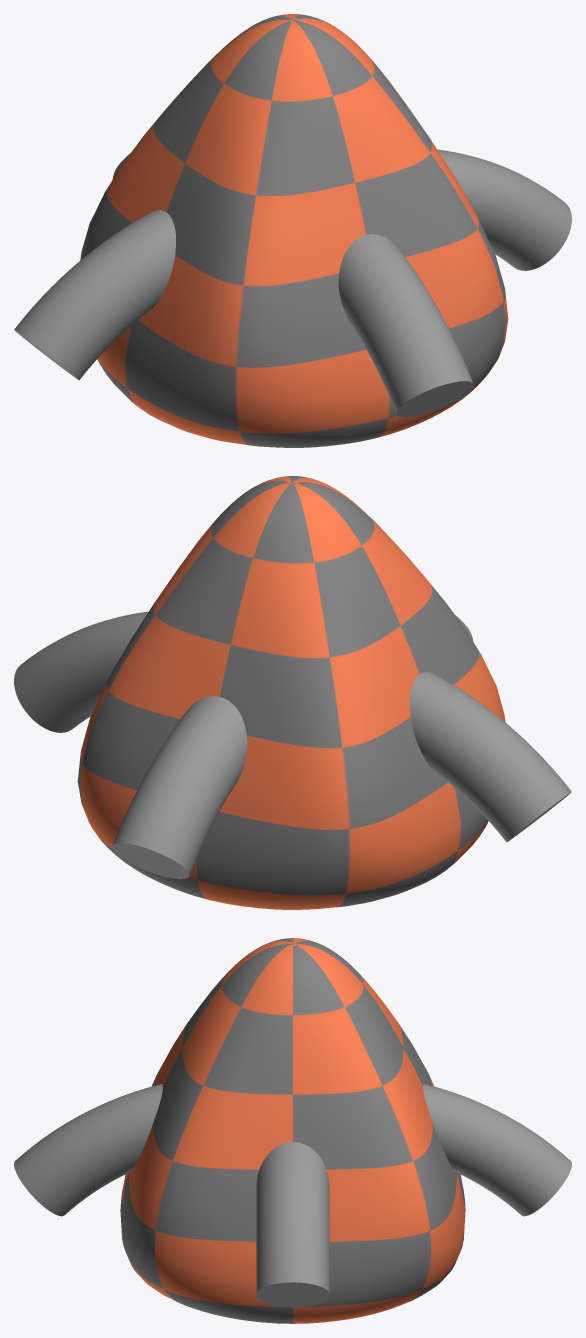
The model's file is Body(Pyramidal)+Colour(More_Orange)+Pattern(Checkered)+Arm_Angle(Bent_Down).fbx.
3 renders of one model, top to bottom at view 1: azimuth 30°, elevation 25°; view 2: azimuth 150°, elevation 25°; view 3: azimuth 270°, elevation 25°, orthographic. The views are drawn at different scales.
Visible parts, largest first — view 1: Body(Pyramidal)+Colour(More_Orange)+Pattern(Checkered)+Arm_A (×4); view 2: Body(Pyramidal)+Colour(More_Orange)+Pattern(Checkered)+Arm_A (×4); view 3: Body(Pyramidal)+Colour(More_Orange)+Pattern(Checkered)+Arm_A (×4).
Part boxes in pixels (x1=…): Body(Pyramidal)+Colour(More_Orange)+Pattern(Checkered)+Arm_A (×4): x1=14, y1=14, x2=571, y2=447; Body(Pyramidal)+Colour(More_Orange)+Pattern(Checkered)+Arm_A (×4): x1=14, y1=476, x2=571, y2=909; Body(Pyramidal)+Colour(More_Orange)+Pattern(Checkered)+Arm_A (×4): x1=14, y1=938, x2=571, y2=1323.
Bounding box in the file's own units: 60.67 × 40 × 60.67.
Materials: 2 (1 with a texture image).
